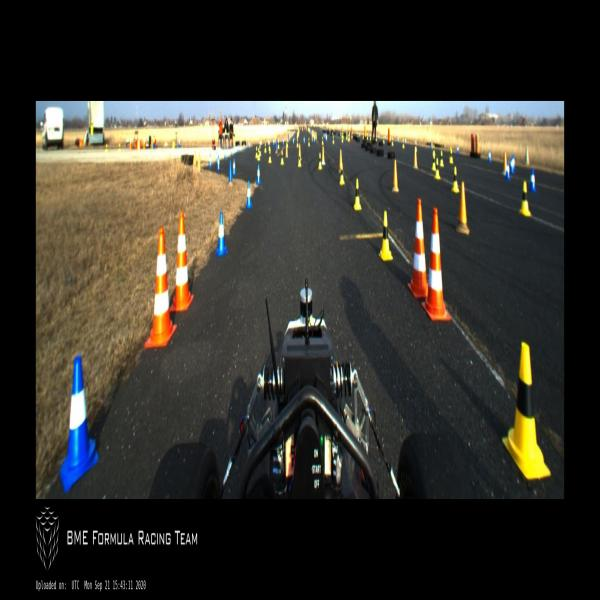blue_cone: (59, 357, 99, 494), (215, 212, 228, 257), (246, 179, 253, 210), (529, 169, 537, 193), (256, 163, 261, 184), (505, 161, 510, 181), (216, 155, 221, 171), (510, 157, 514, 175), (232, 159, 236, 176), (209, 153, 212, 168), (488, 150, 491, 164), (456, 144, 459, 157), (224, 148, 227, 160), (215, 151, 218, 163), (430, 142, 433, 151), (231, 146, 233, 156), (237, 144, 239, 154), (243, 142, 245, 152), (404, 136, 406, 146), (248, 141, 250, 150), (273, 138, 275, 146), (282, 138, 284, 146), (292, 137, 294, 145), (303, 136, 305, 144)
large_orange_cone: (144, 227, 178, 348), (421, 207, 451, 322), (170, 212, 194, 312), (407, 198, 428, 300)
yellow_cone: (502, 342, 551, 480), (378, 210, 393, 262), (519, 180, 532, 218), (353, 178, 362, 212), (451, 166, 460, 194), (434, 158, 441, 180), (339, 164, 345, 186), (432, 150, 436, 172), (439, 150, 444, 167), (318, 152, 322, 170), (280, 150, 284, 166), (268, 149, 272, 164), (450, 146, 453, 166), (298, 152, 301, 168), (257, 148, 260, 161), (255, 146, 258, 159), (264, 142, 267, 154), (268, 142, 271, 152), (402, 139, 405, 149), (391, 137, 394, 147), (321, 136, 324, 145), (332, 136, 335, 144), (259, 145, 261, 156), (296, 138, 298, 148), (308, 138, 310, 147), (278, 139, 279, 149)
